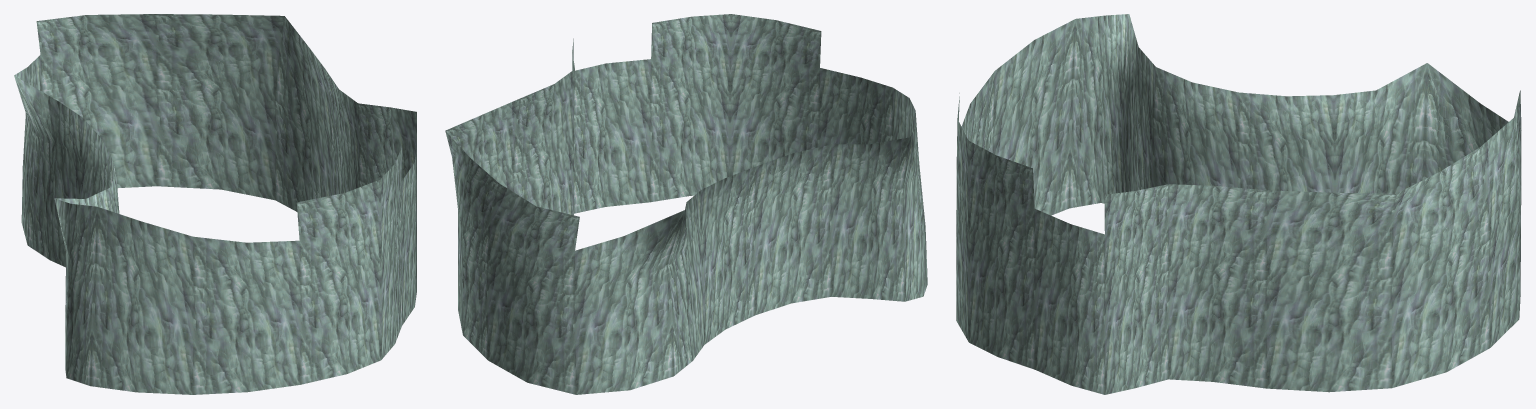
Rendered from TROLLHOLE02_PS-SECRETCAVE03.fbx.
3 views of the same model, side by side, from view 1: azimuth 30°, elevation 25°; view 2: azimuth 150°, elevation 25°; view 3: azimuth 270°, elevation 25° (orthographic). The views are drawn at different scales.
Parts seen in each view (by area): view 1: TROLLHOLE02_PS-SECRETCAVE03; view 2: TROLLHOLE02_PS-SECRETCAVE03; view 3: TROLLHOLE02_PS-SECRETCAVE03.
Boxes of the visible parts, bbox=[...] form: TROLLHOLE02_PS-SECRETCAVE03: bbox=[14, 14, 416, 394]; TROLLHOLE02_PS-SECRETCAVE03: bbox=[445, 14, 927, 394]; TROLLHOLE02_PS-SECRETCAVE03: bbox=[956, 14, 1521, 394].
Bounding box in the file's own units: 356484 × 176537 × 445563.
Materials: 1 (1 with a texture image).
